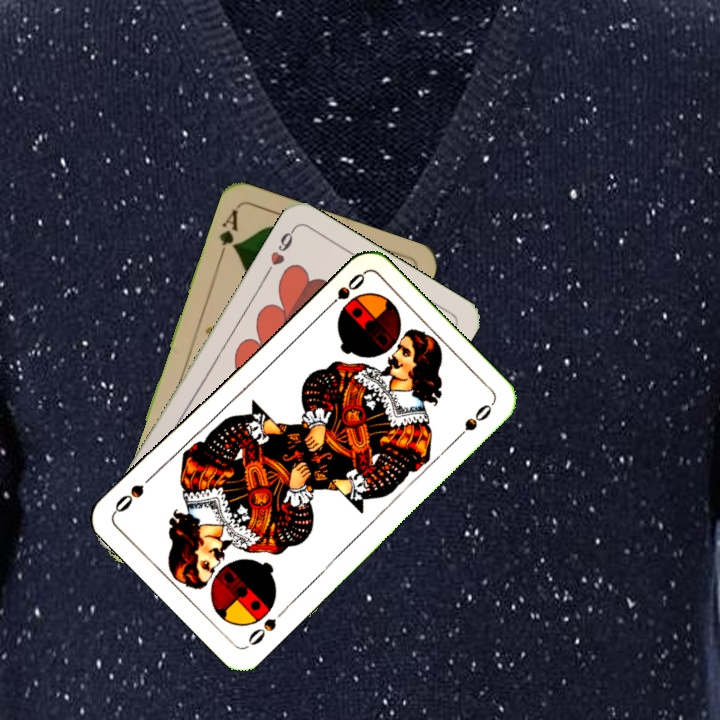GA: (215, 205, 241, 263)
H9: (261, 224, 298, 277)
SO: (320, 269, 368, 315), (244, 613, 279, 648)
